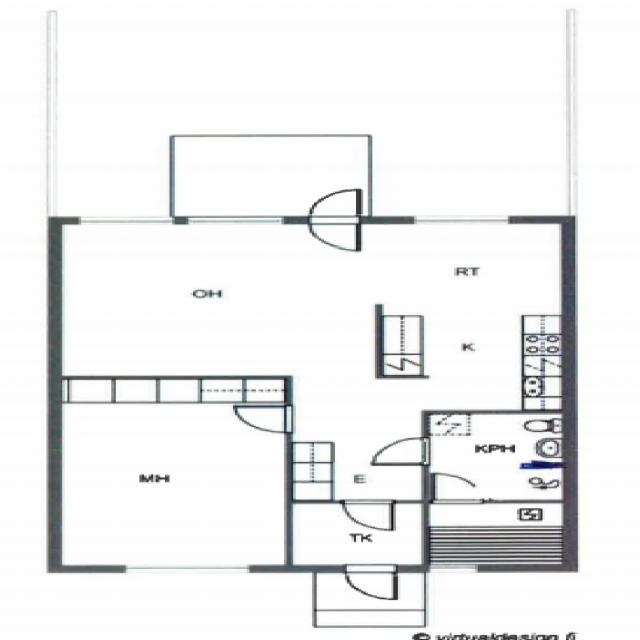door: (345, 564, 397, 600), (309, 217, 359, 251), (309, 190, 359, 224), (235, 406, 292, 433), (372, 438, 430, 464), (434, 474, 483, 504), (342, 501, 392, 530)
